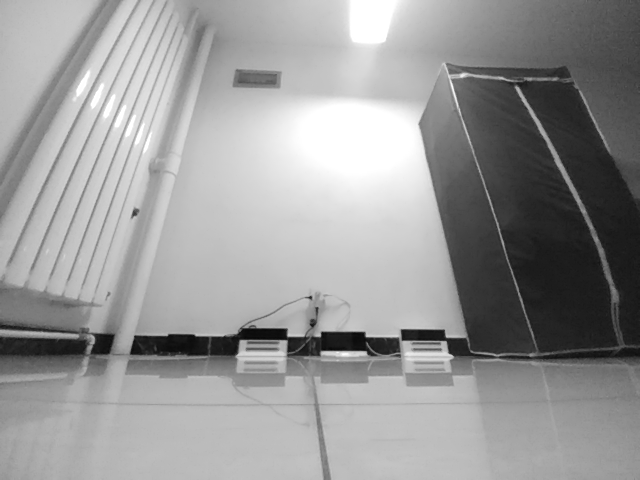Ruby: (235, 326, 290, 363), (399, 328, 455, 359)
TanosV: (318, 330, 368, 361)
